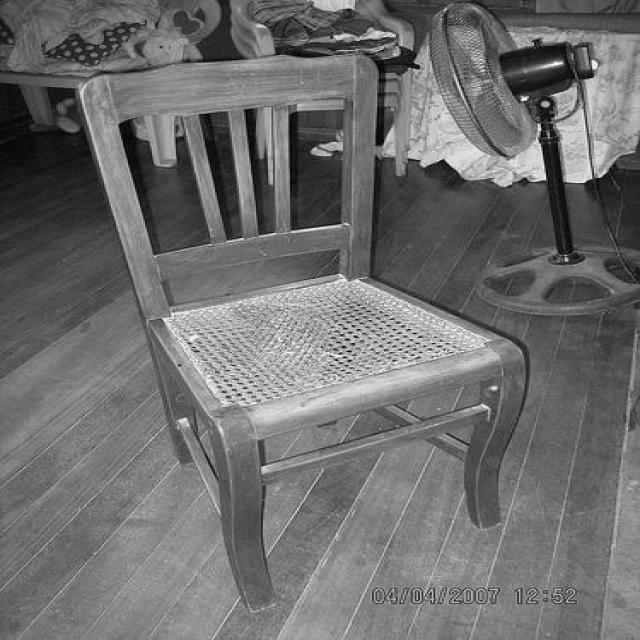chair: (66, 54, 530, 608)
